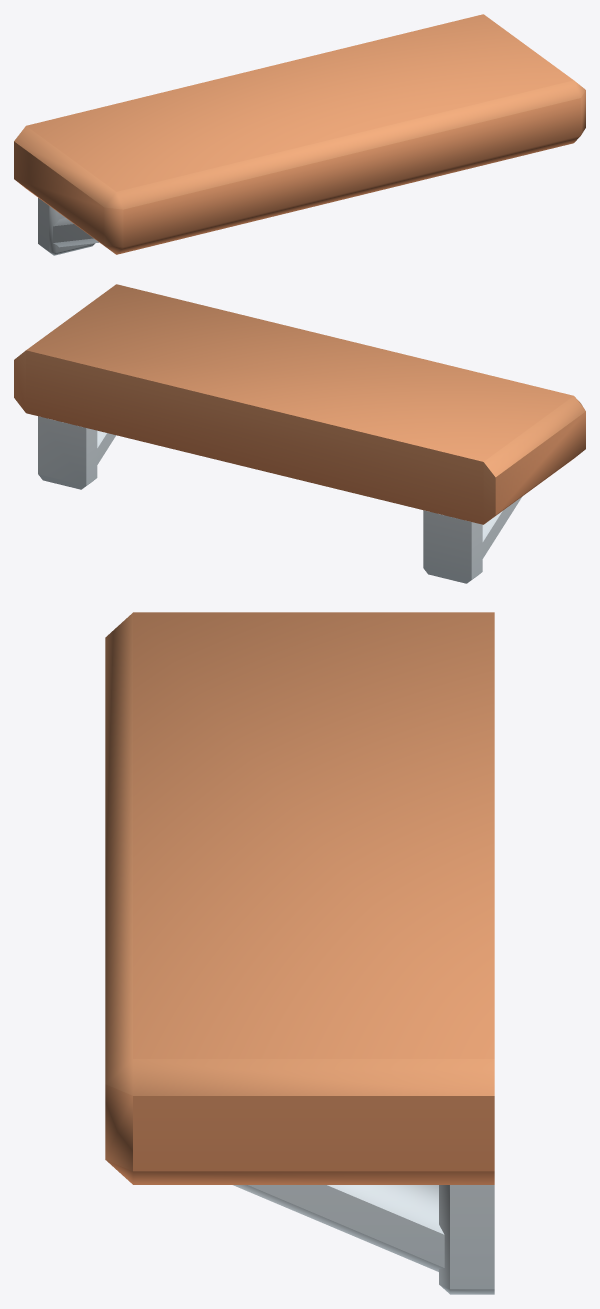
Rendered from Wall Shelf Kitchen.glb.
3 renders of one model, top to bottom at view 1: azimuth 30°, elevation 25°; view 2: azimuth 150°, elevation 25°; view 3: azimuth 270°, elevation 25°, orthographic. The views are drawn at different scales.
Visible parts, largest first — view 1: wall_shelf_kitchen; view 2: wall_shelf_kitchen; view 3: wall_shelf_kitchen.
Part boxes in pixels (left/top/right/bottom): wall_shelf_kitchen: left=14, top=14, right=585, bottom=255; wall_shelf_kitchen: left=14, top=284, right=585, bottom=583; wall_shelf_kitchen: left=105, top=612, right=494, bottom=1294.
Bounding box in the file's own units: 2 × 0.5 × 0.7.
1 material, 1 textured.
